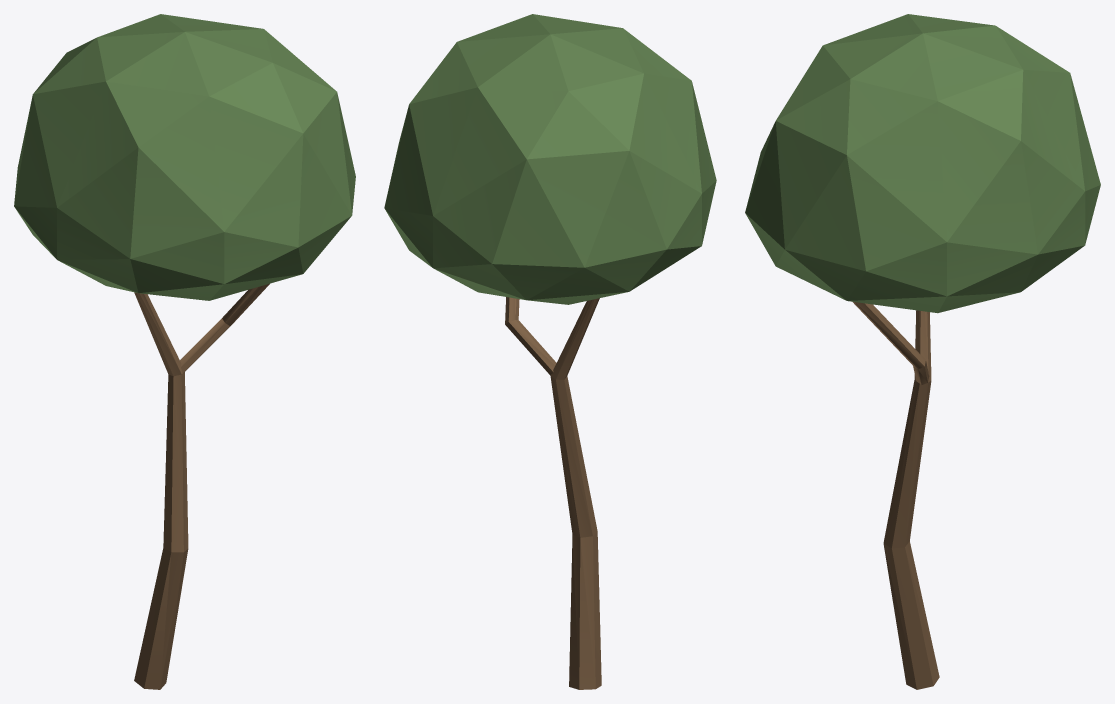
File: tree_green_3.glb
3 renders of one model, left to right at view 1: azimuth 30°, elevation 25°; view 2: azimuth 150°, elevation 25°; view 3: azimuth 270°, elevation 25°, orthographic. The views are drawn at different scales.
Visible parts, largest first — view 1: Tree Yellow 3.158; view 2: Tree Yellow 3.158; view 3: Tree Yellow 3.158.
Part boxes in pixels (bbox=[...]): Tree Yellow 3.158: bbox=[14, 14, 355, 689]; Tree Yellow 3.158: bbox=[384, 14, 716, 689]; Tree Yellow 3.158: bbox=[745, 14, 1100, 689].
Bounding box in the file's own units: 0.1721 × 0.3691 × 0.1783.
